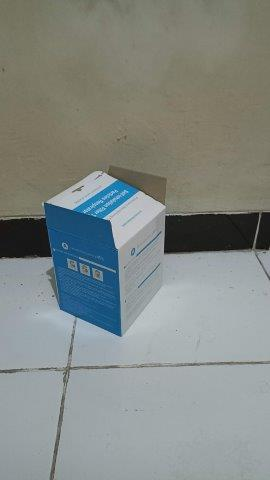kardus: (46, 167, 164, 334)
